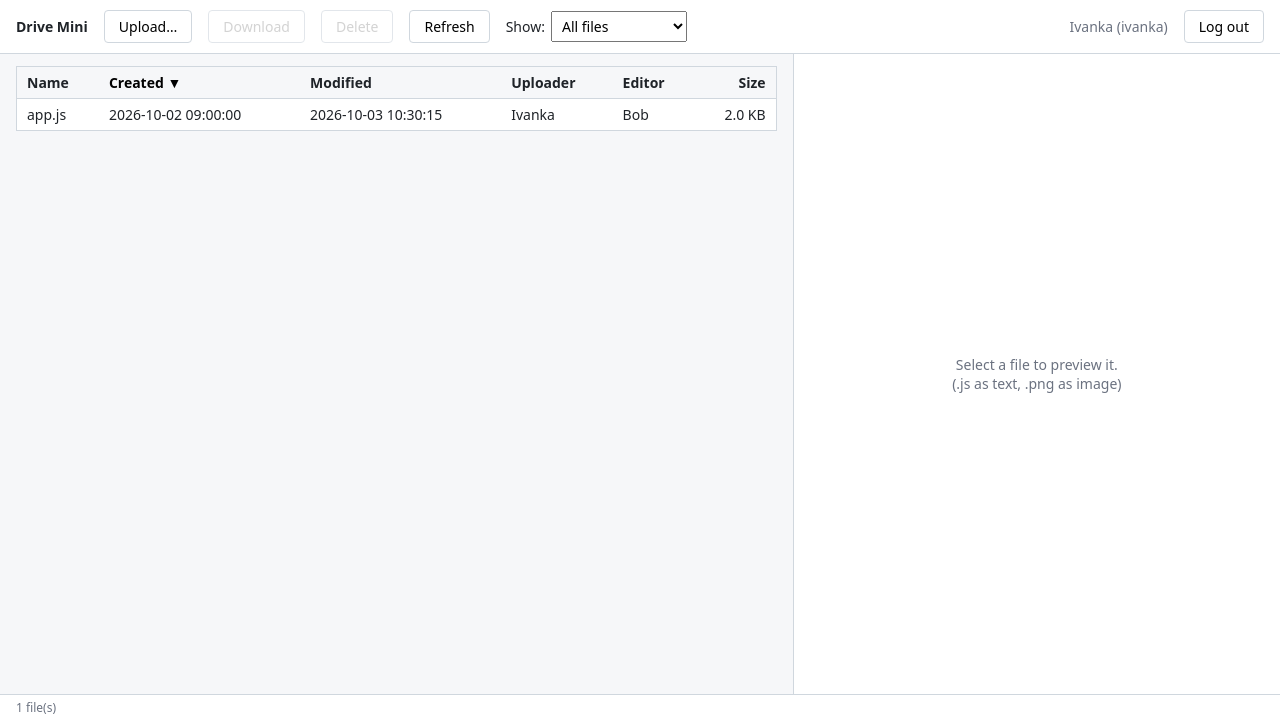
Test: when the filter hides everything, the table says why
Expected: the text "app.js" is shown, [16,98,99,130]
Select "Only .c and .jpg" in the dropdown labelled "Show:" at (619,26), box [551,11,687,42]
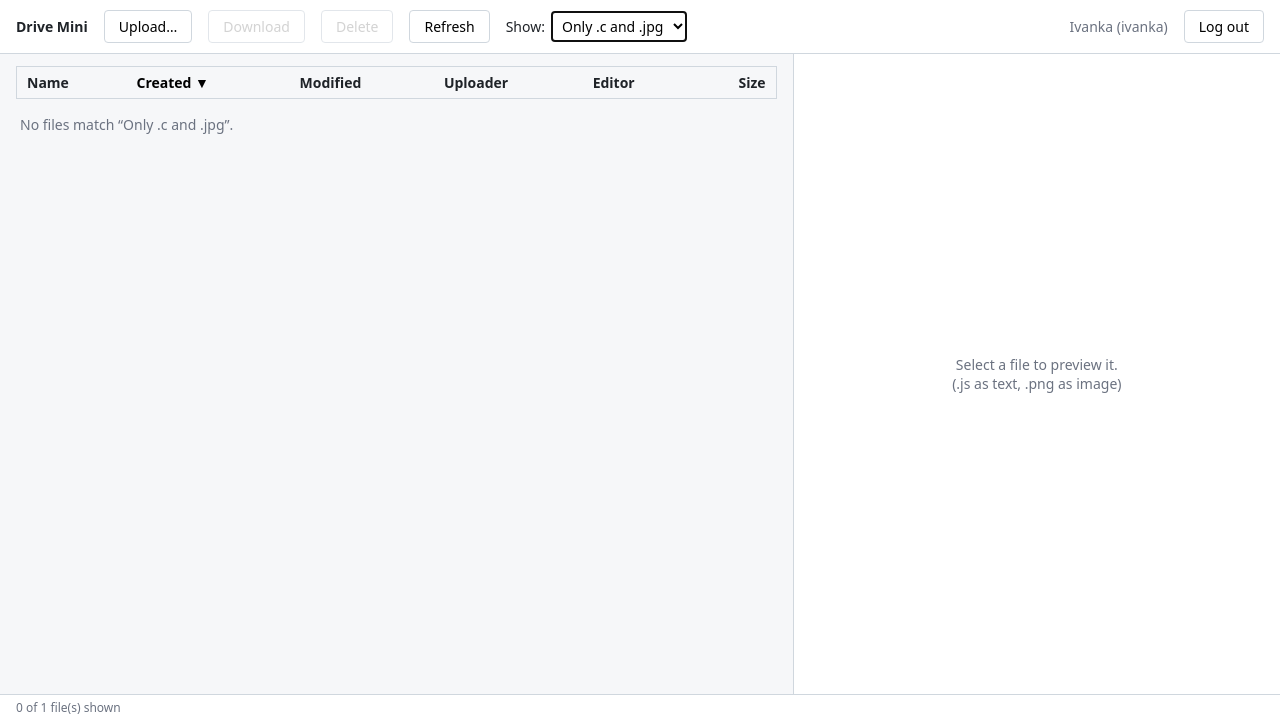
Expected: the text "No files match “Only .c and .jpg”." is shown, [20,115,233,134]
Expected: the text "0 of 1 file(s) shown" is shown, [0,694,1279,719]
